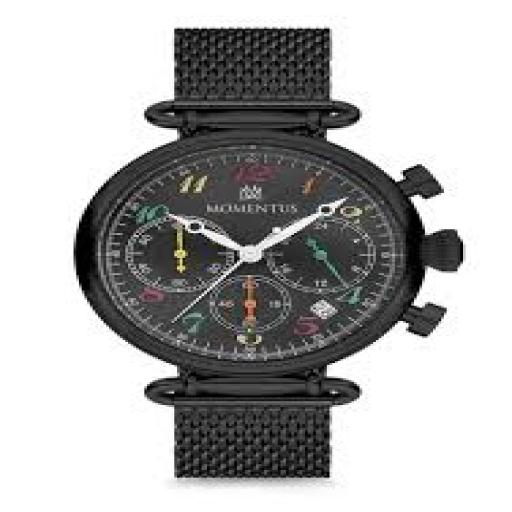KolSaati: (65, 12, 466, 494)
